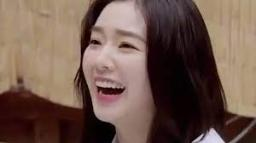face: (84, 22, 148, 121)
